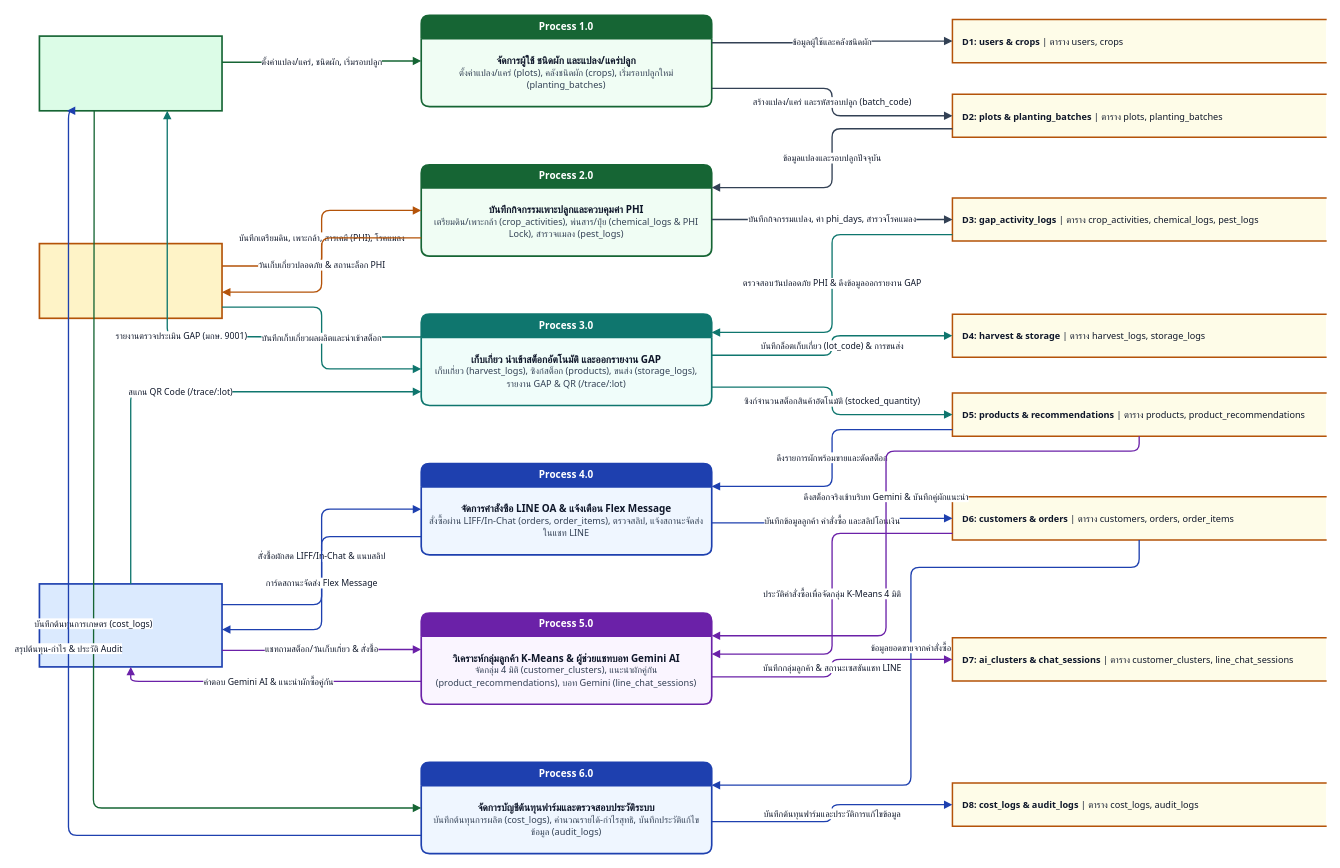
Image size: 1340x868. Some labels were removed from this diagram. The shapes that lost their labels are listed below. From the top down, each one's centre as x and y in pixels, then its label:
pixel 130 73: เจ้าของฟาร์ม (Owner) (users.role = 'owner')
pixel 130 280: คนงานฟาร์ม (Worker) (users.role = 'worker')
pixel 130 625: ลูกค้าสมาชิก LINE OA (customers / LINE User)
